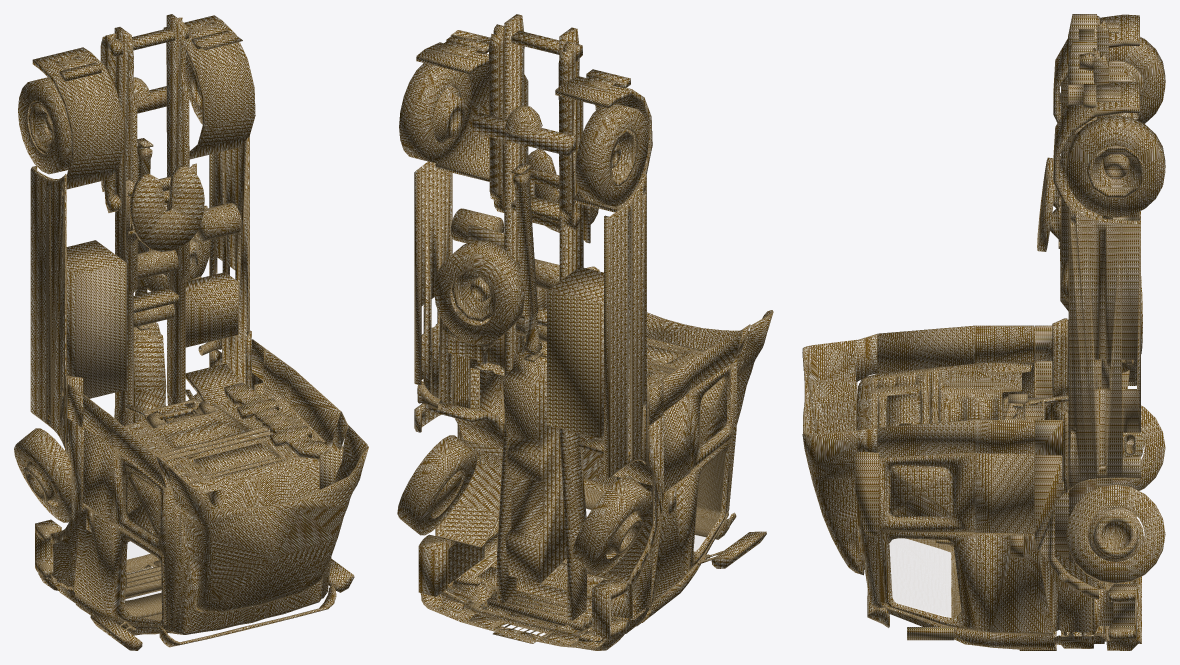
The model's file is truck_001.obj.
The picture shows the model from 3 angles, left to right: view 1: azimuth 30°, elevation 25°; view 2: azimuth 150°, elevation 25°; view 3: azimuth 270°, elevation 25°; orthographic projection. The views are drawn at different scales.
Bounding box in the file's own units: 2.55 × 5.7 × 3.19.
